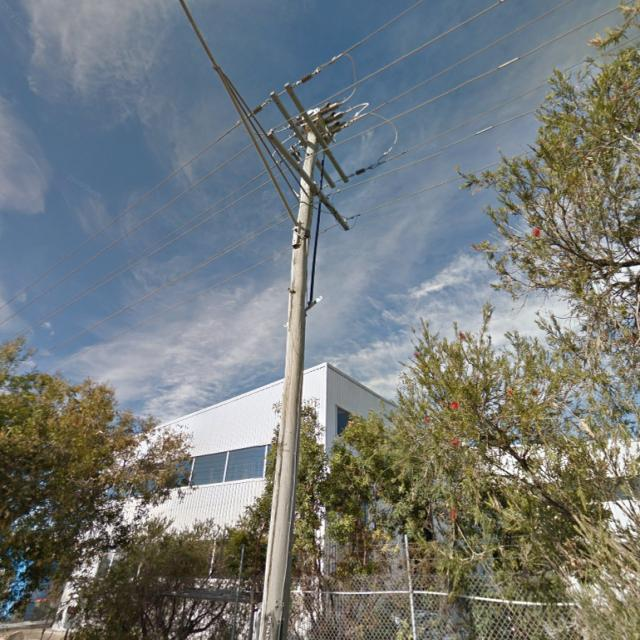HV-switch: (289, 100, 352, 146)
HV-transmission: (252, 73, 364, 188)
crossarm: (268, 80, 348, 192), (267, 129, 348, 231)
timber-pole: (259, 127, 319, 640)
